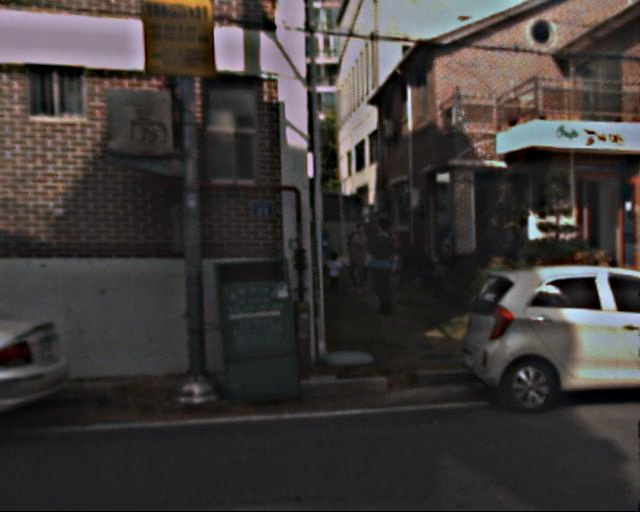person: (363, 215, 407, 316), (342, 226, 373, 295), (323, 251, 343, 293)
